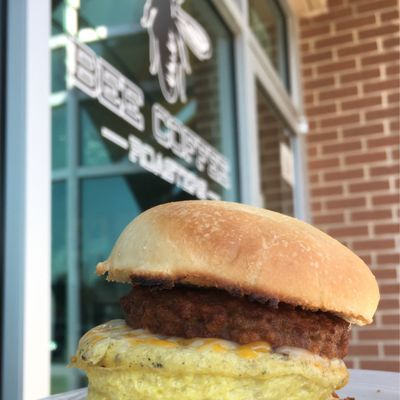soup: (72, 199, 368, 400)
